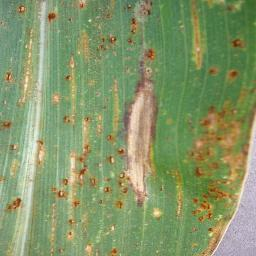Corn_Blight: (173, 94, 256, 255), (62, 59, 115, 195), (120, 45, 163, 205), (61, 202, 125, 256), (1, 66, 35, 110), (188, 1, 207, 74), (123, 4, 156, 37), (208, 63, 246, 84), (38, 5, 66, 28), (6, 195, 39, 214), (32, 136, 50, 170), (7, 145, 21, 186), (228, 31, 253, 53), (90, 36, 116, 55), (25, 29, 36, 64), (13, 2, 27, 22), (77, 2, 100, 14), (2, 120, 14, 135)
